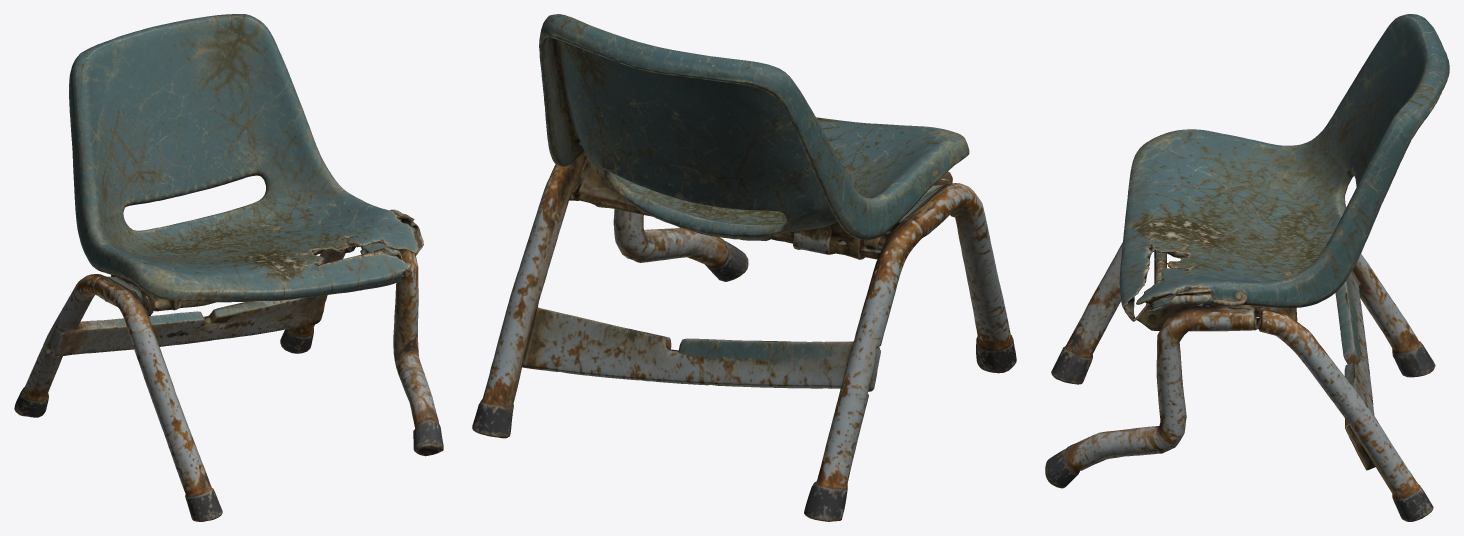
The model's file is BrokenChair.fbx.
3 renders of one model, left to right at view 1: azimuth 30°, elevation 25°; view 2: azimuth 150°, elevation 25°; view 3: azimuth 270°, elevation 25°, orthographic. The views are drawn at different scales.
Parts seen in each view (by area): view 1: texture_mapping; view 2: texture_mapping; view 3: texture_mapping.
Boxes of the visible parts, bbox=[...] form: texture_mapping: bbox=[14, 14, 443, 521]; texture_mapping: bbox=[472, 14, 1016, 521]; texture_mapping: bbox=[1045, 14, 1449, 521].
Bounding box in the file's own units: 0.8769 × 0.9418 × 0.9991.
1 material, 1 textured.
